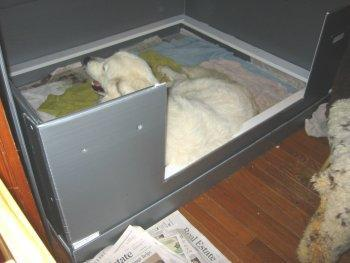Great_Pyrenees: (83, 50, 254, 175)
